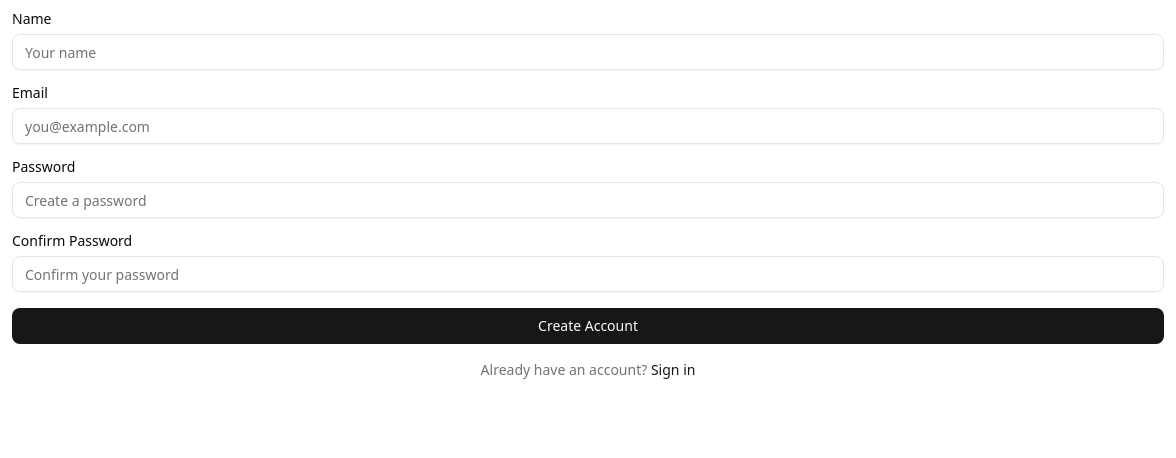
SignUpForm › shows error when password is too short
The image size is (1176, 458).
Type "Test User" into the field labelled "Name". click: (588, 52)
box: [12,34,1164,70]
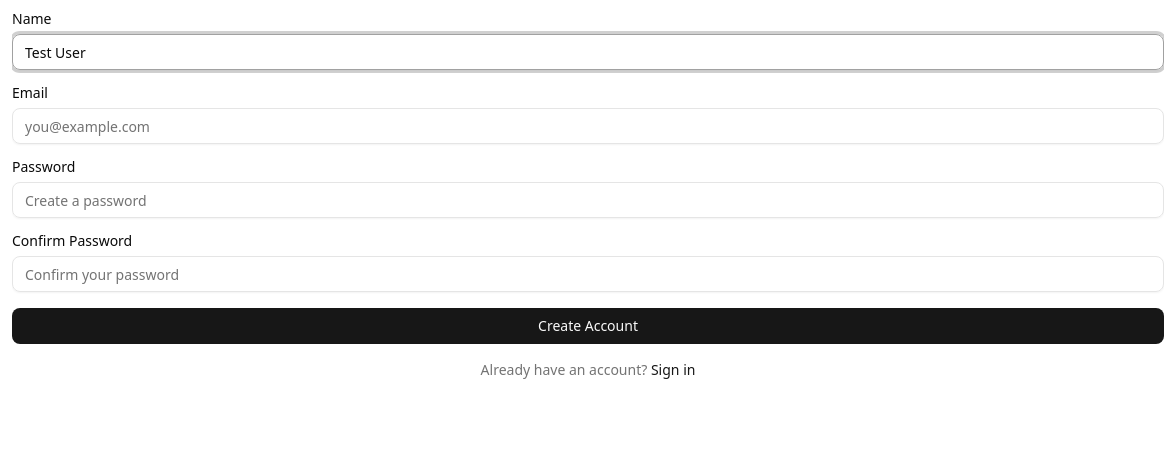
Type "test@example.com" into the field labelled "Email". click: (588, 126)
box: [12,108,1164,144]
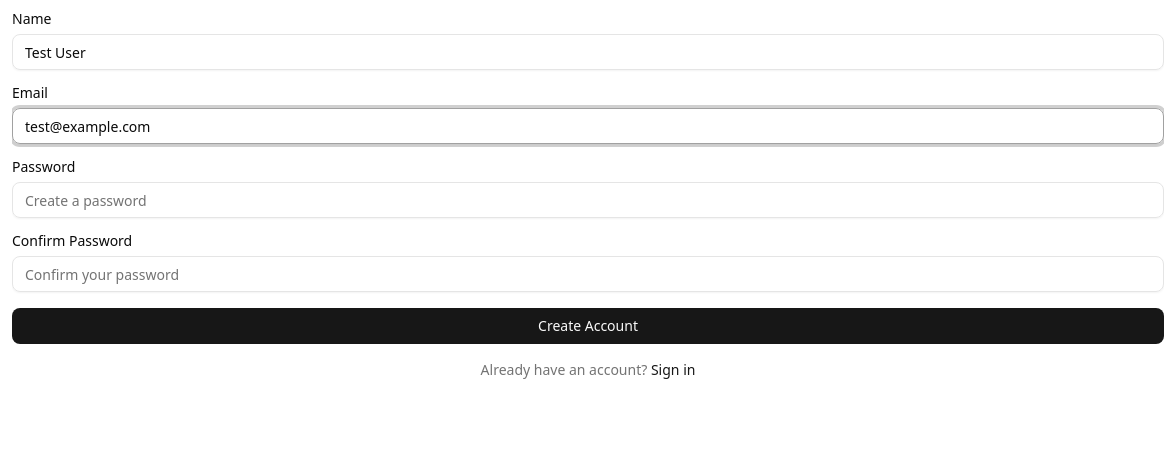
Type "short" into the password field labelled "Password". click: (588, 200)
box: [12,182,1164,218]
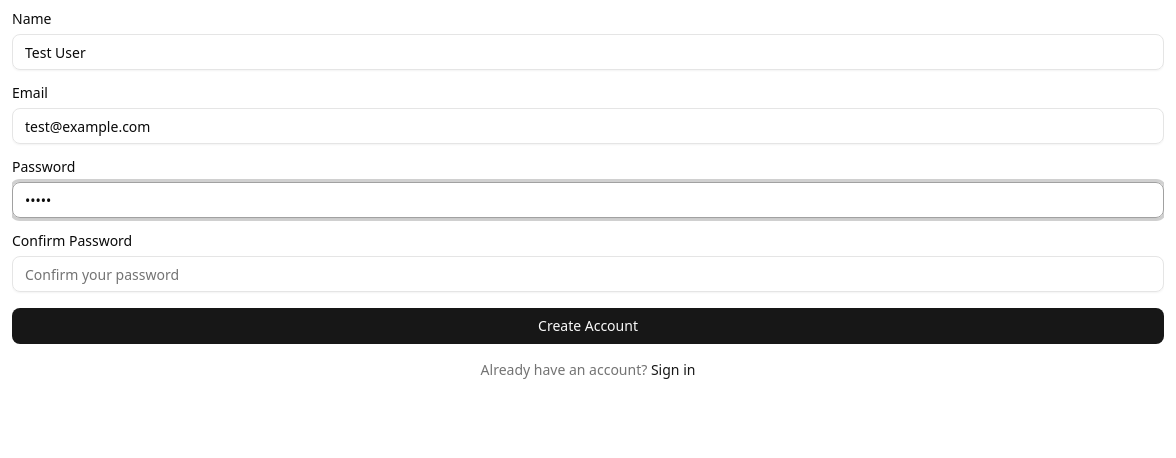
Type "short" into the password field labelled "Confirm Password". click: (588, 274)
box: [12,256,1164,292]
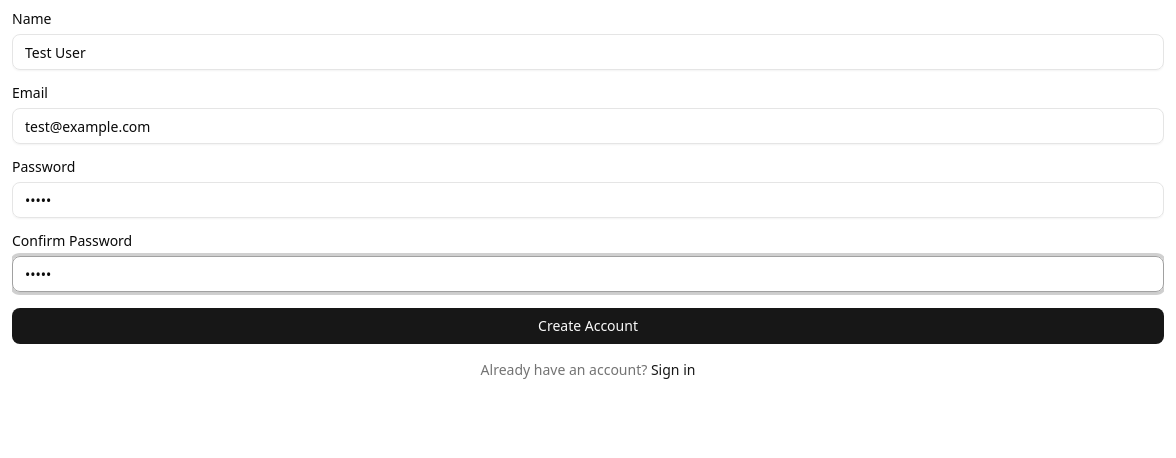
Click the button "Create Account". click: (588, 326)
box: [12,308,1164,344]
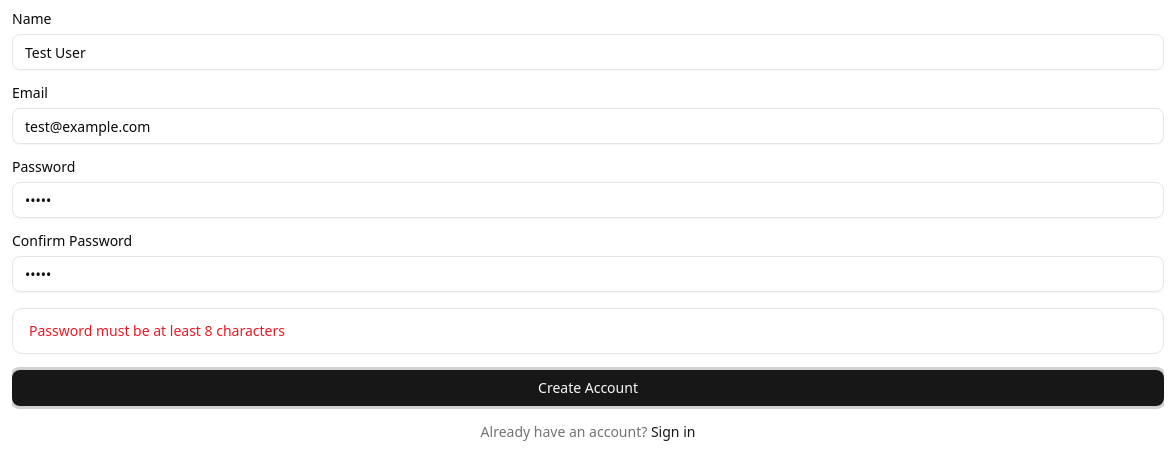
Result: the text "Password must be at least 8 characters" is shown at [29,321,285,340]
